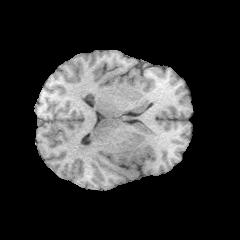glioma: (103, 149, 147, 179)
